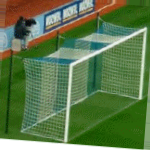goals: (21, 19, 150, 144)
